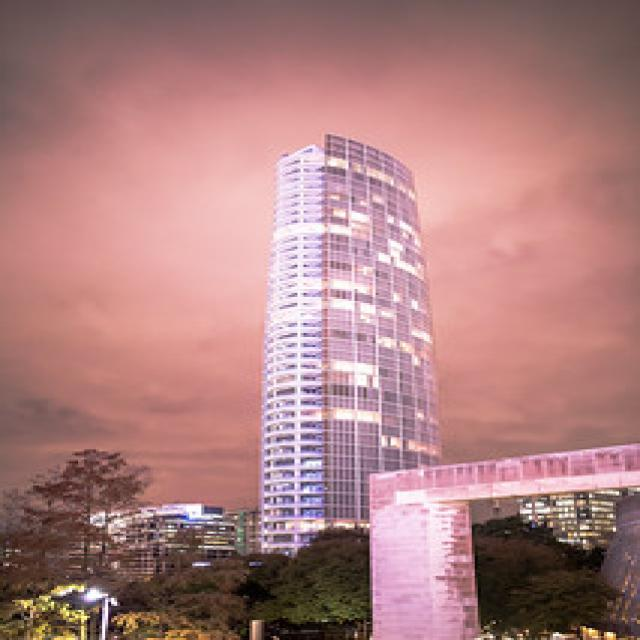Normal_building: (261, 128, 445, 560)
